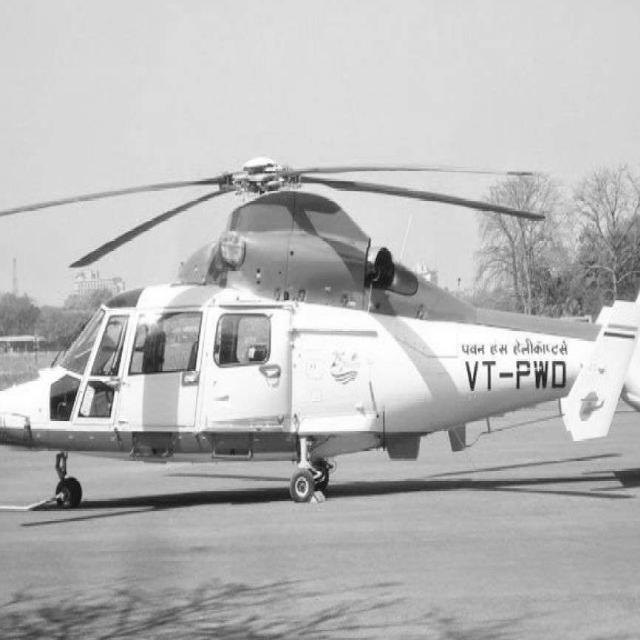helicopter: (2, 104, 640, 525)
